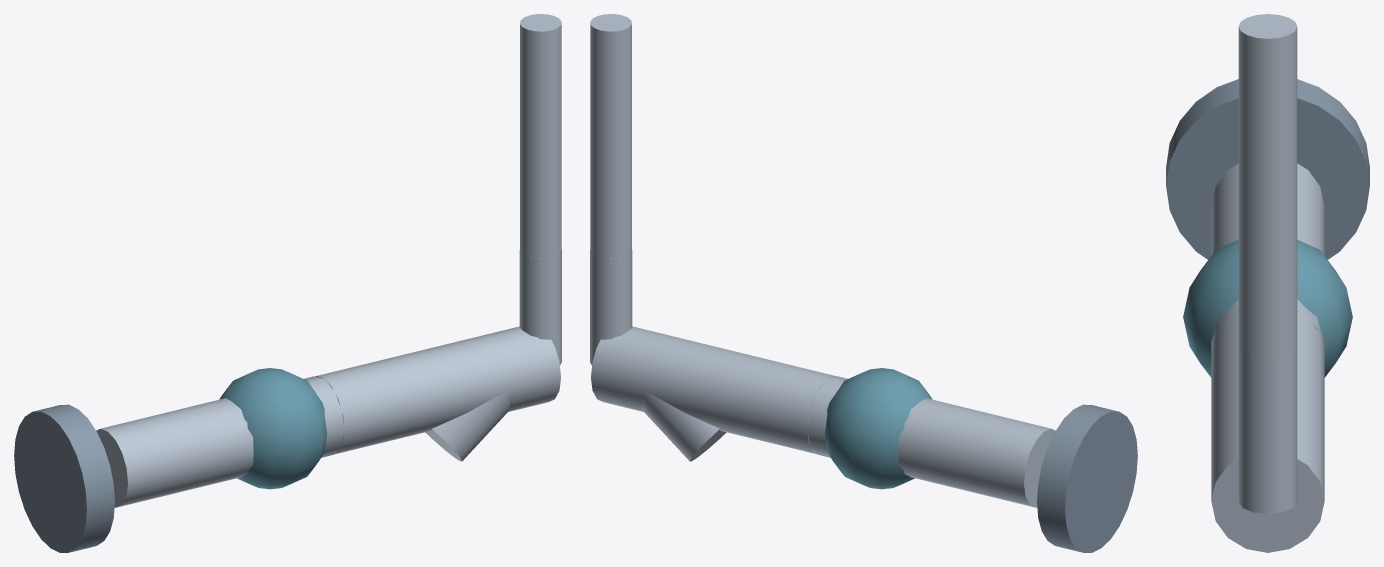
The picture shows the model from 3 angles, left to right: view 1: azimuth 30°, elevation 25°; view 2: azimuth 150°, elevation 25°; view 3: azimuth 270°, elevation 25°; orthographic projection. The views are drawn at different scales.
Bounding box in the file's own units: 2349 × 1826 × 583.
